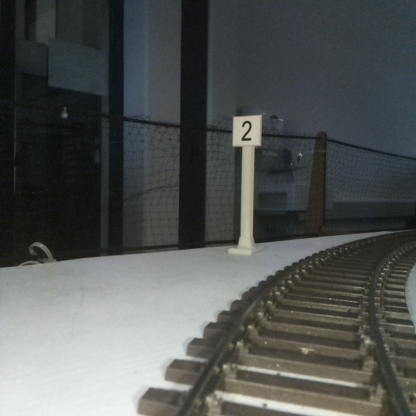white-info-2: (232, 114, 260, 252)
